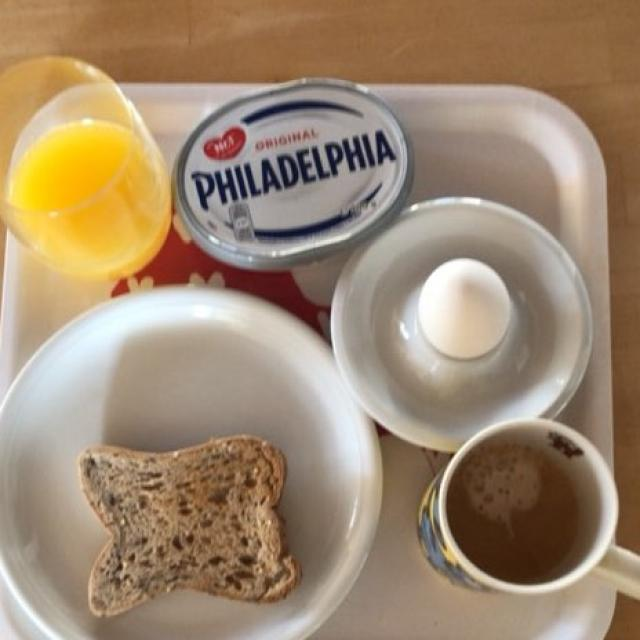coffee-with-caffeine: (450, 442, 583, 583)
egg: (412, 259, 506, 346)
gluten-free-bread: (78, 438, 296, 616)
juice-orange: (12, 79, 159, 277)
